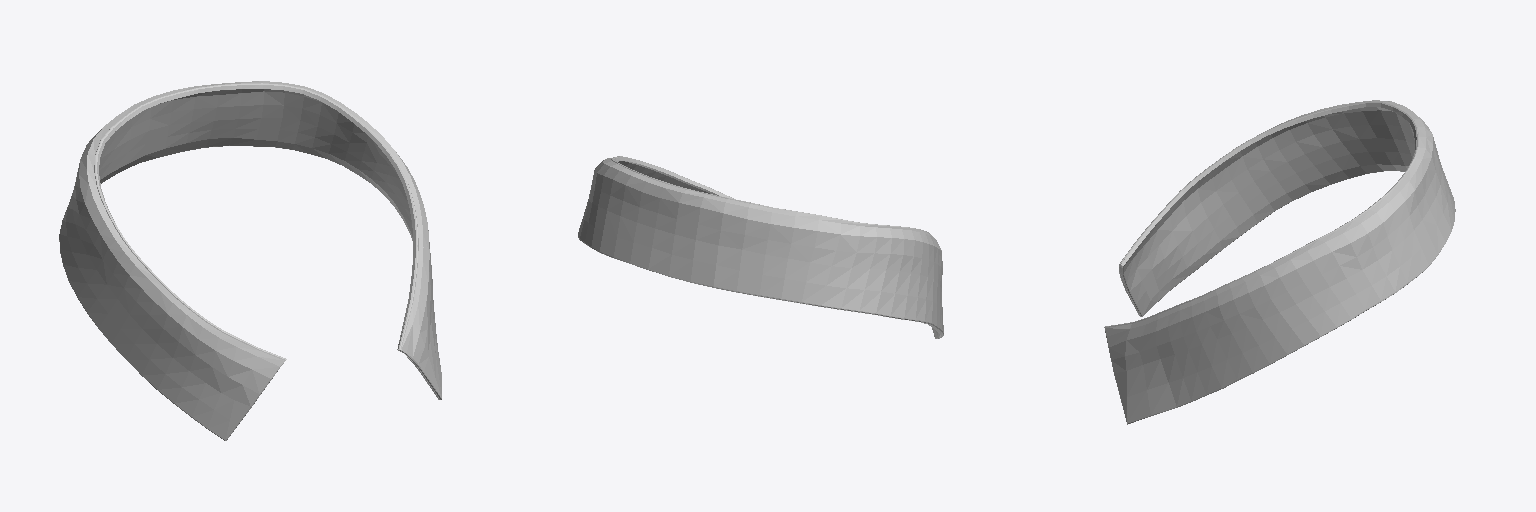
3 views of the same model, side by side, from view 1: azimuth 30°, elevation 25°; view 2: azimuth 150°, elevation 25°; view 3: azimuth 270°, elevation 25° (orthographic).
Visible parts, largest first — view 1: cropped:ZBrushPolyMesh3D1 cropped:polySurface529 polySurface656 ; view 2: cropped:ZBrushPolyMesh3D1 cropped:polySurface529 polySurface656 ; view 3: cropped:ZBrushPolyMesh3D1 cropped:polySurface529 polySurface656 .
Part boxes in pixels (x1,y1,x2,y2): cropped:ZBrushPolyMesh3D1 cropped:polySurface529 polySurface656 : (59, 81, 441, 440); cropped:ZBrushPolyMesh3D1 cropped:polySurface529 polySurface656 : (578, 156, 943, 338); cropped:ZBrushPolyMesh3D1 cropped:polySurface529 polySurface656 : (1104, 100, 1455, 424).
Bounding box in the file's own units: 16.06 × 10.84 × 14.98.